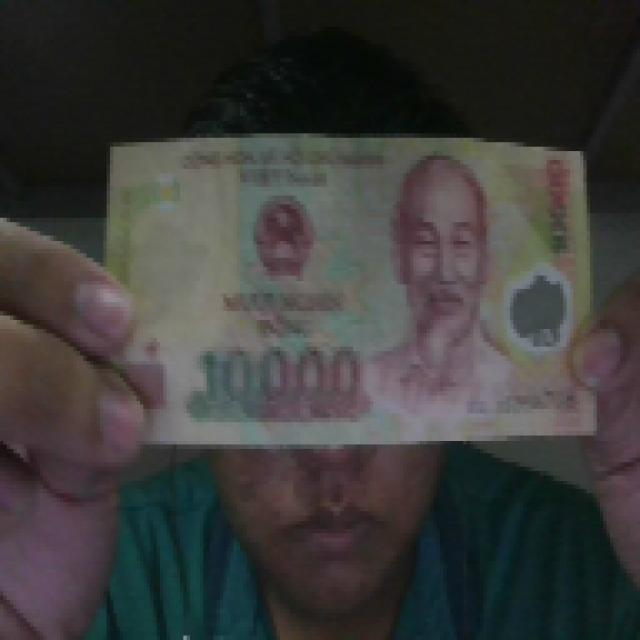10 000 VND: (97, 124, 603, 449)
